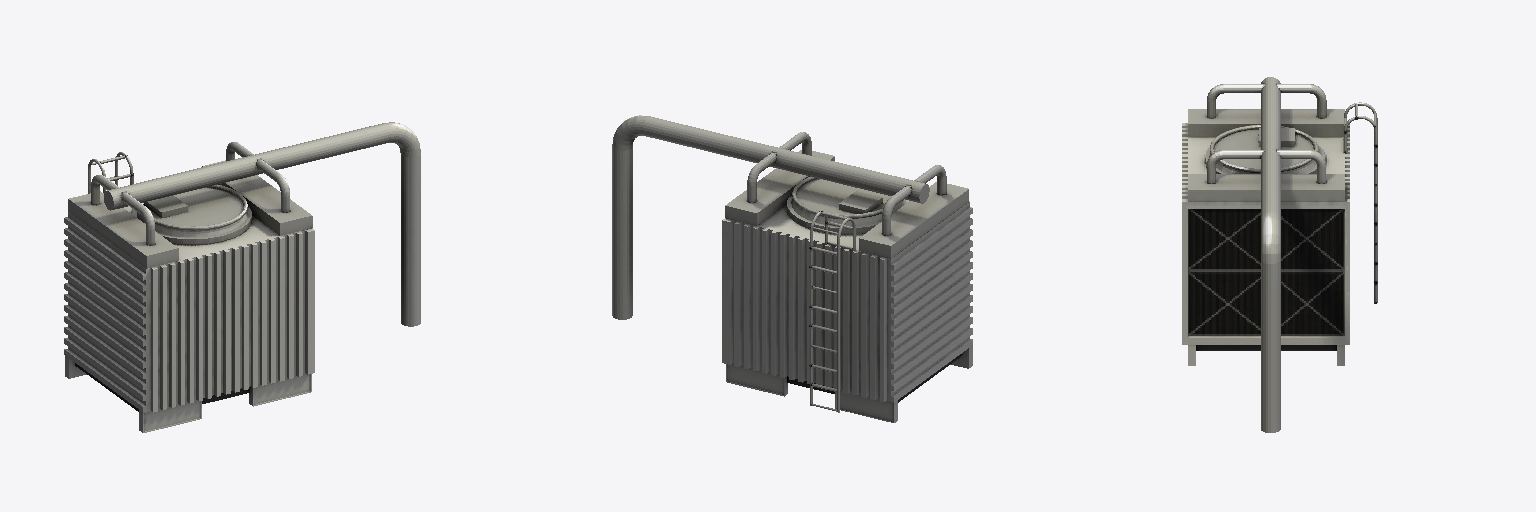
3 views of the same model, side by side, from view 1: azimuth 30°, elevation 25°; view 2: azimuth 150°, elevation 25°; view 3: azimuth 270°, elevation 25° (orthographic).
Visible parts, largest first — view 1: Loft03; view 2: Loft03; view 3: Loft03.
Part boxes in pixels (bbox=[...]): Loft03: bbox=[64, 122, 420, 432]; Loft03: bbox=[612, 115, 972, 422]; Loft03: bbox=[1182, 77, 1377, 432].
Bounding box in the file's own units: 350 × 221 × 186.
Materials: 1 (1 with a texture image).